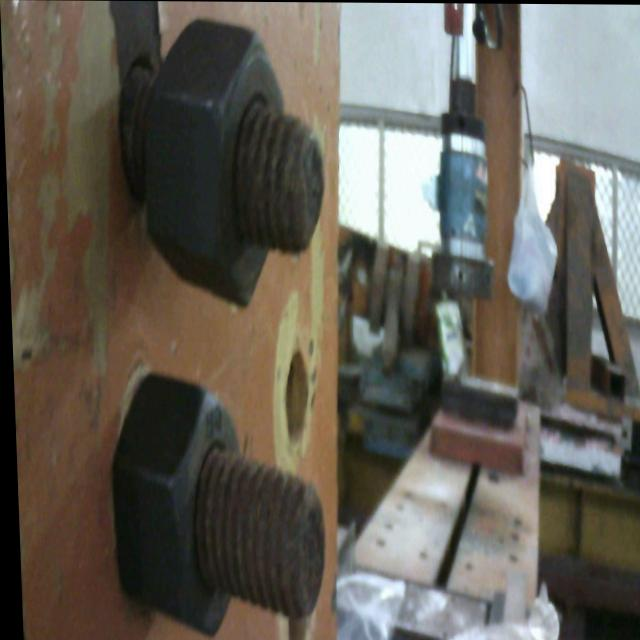Loose bolt: (118, 14, 332, 309)
Missing bolt: (279, 343, 310, 443)
Rusty bolt: (116, 19, 357, 310), (93, 374, 325, 640), (111, 379, 325, 621)
